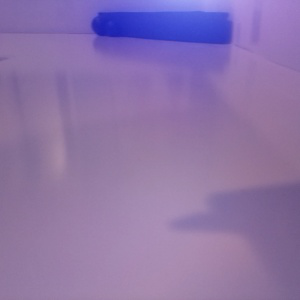dead_ball: (91, 16, 110, 36), (104, 20, 120, 37)
